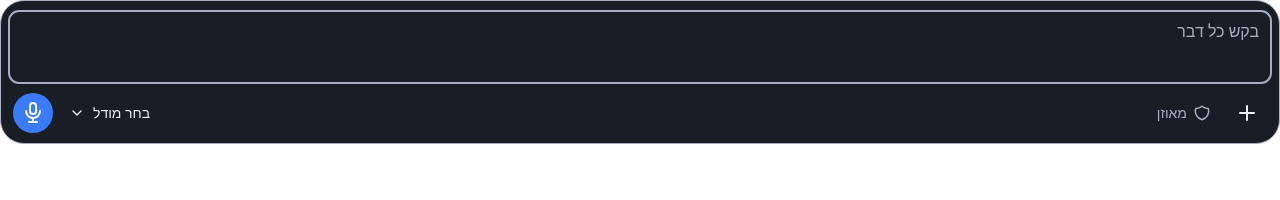
Test: dictation errors remain visible without submitting a transcript
The image size is (1280, 200).
Click the button named "הכתבה קולית" at (33, 113), box [13,93,53,133]
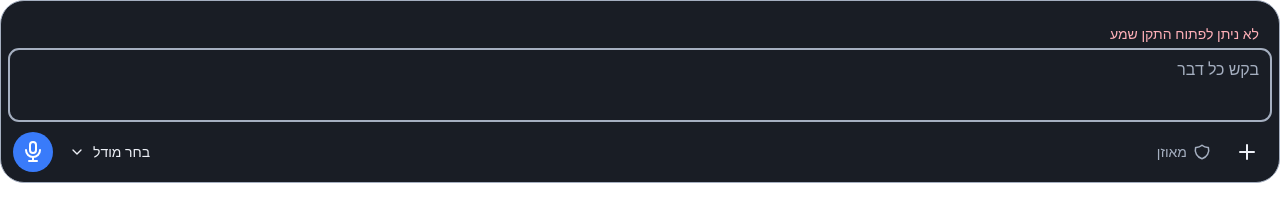
Expected: the message reads "לא ניתן לפתוח התקן שמע", [1110,24,1259,43]
